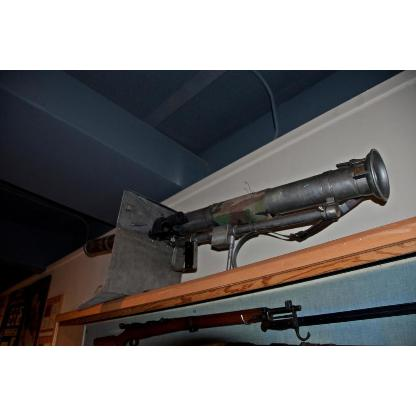gun: (95, 298, 413, 344)
